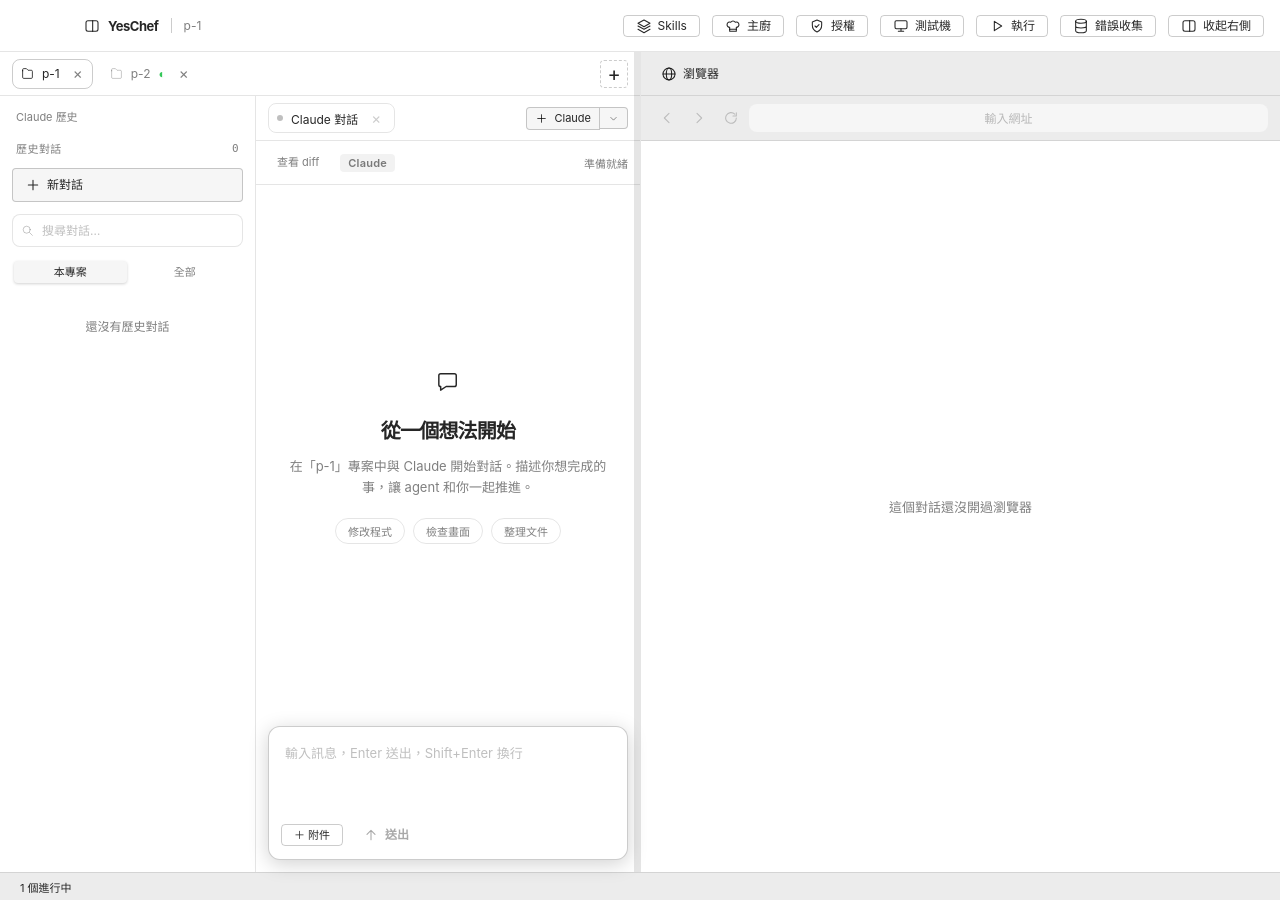
Test: App 狀態列 › 點進行中會切到第一個進行中的專案與對話
Click the button "1 個進行中". click: click(46, 886)
box: [16, 876, 76, 898]
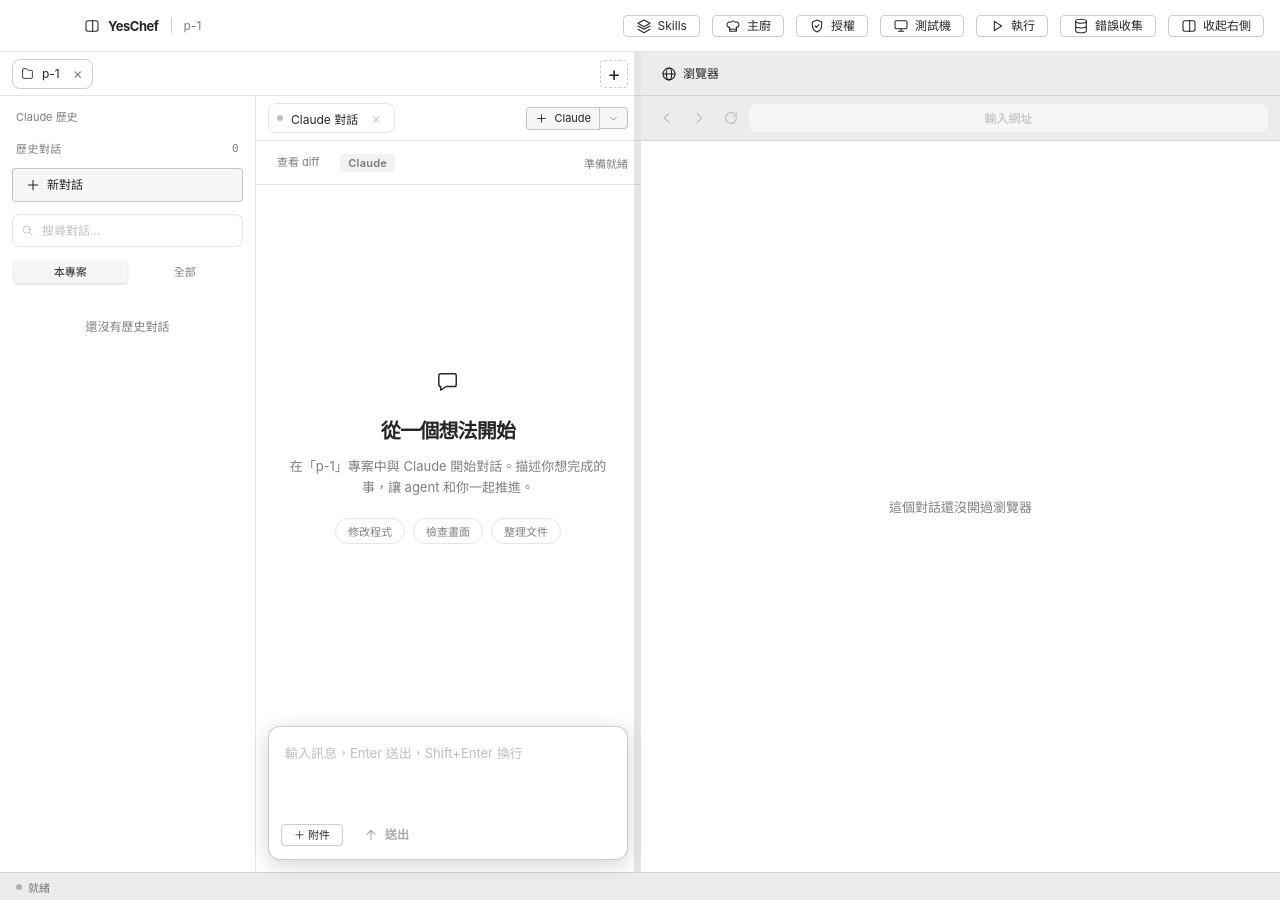
Expected: the footer with class "status-bar" is shown, [0, 872, 1279, 899]
Expected: the button "1 個進行中" is gone
Expected: the footer with class "status-bar" reads "就緒", [28, 880, 50, 894]
